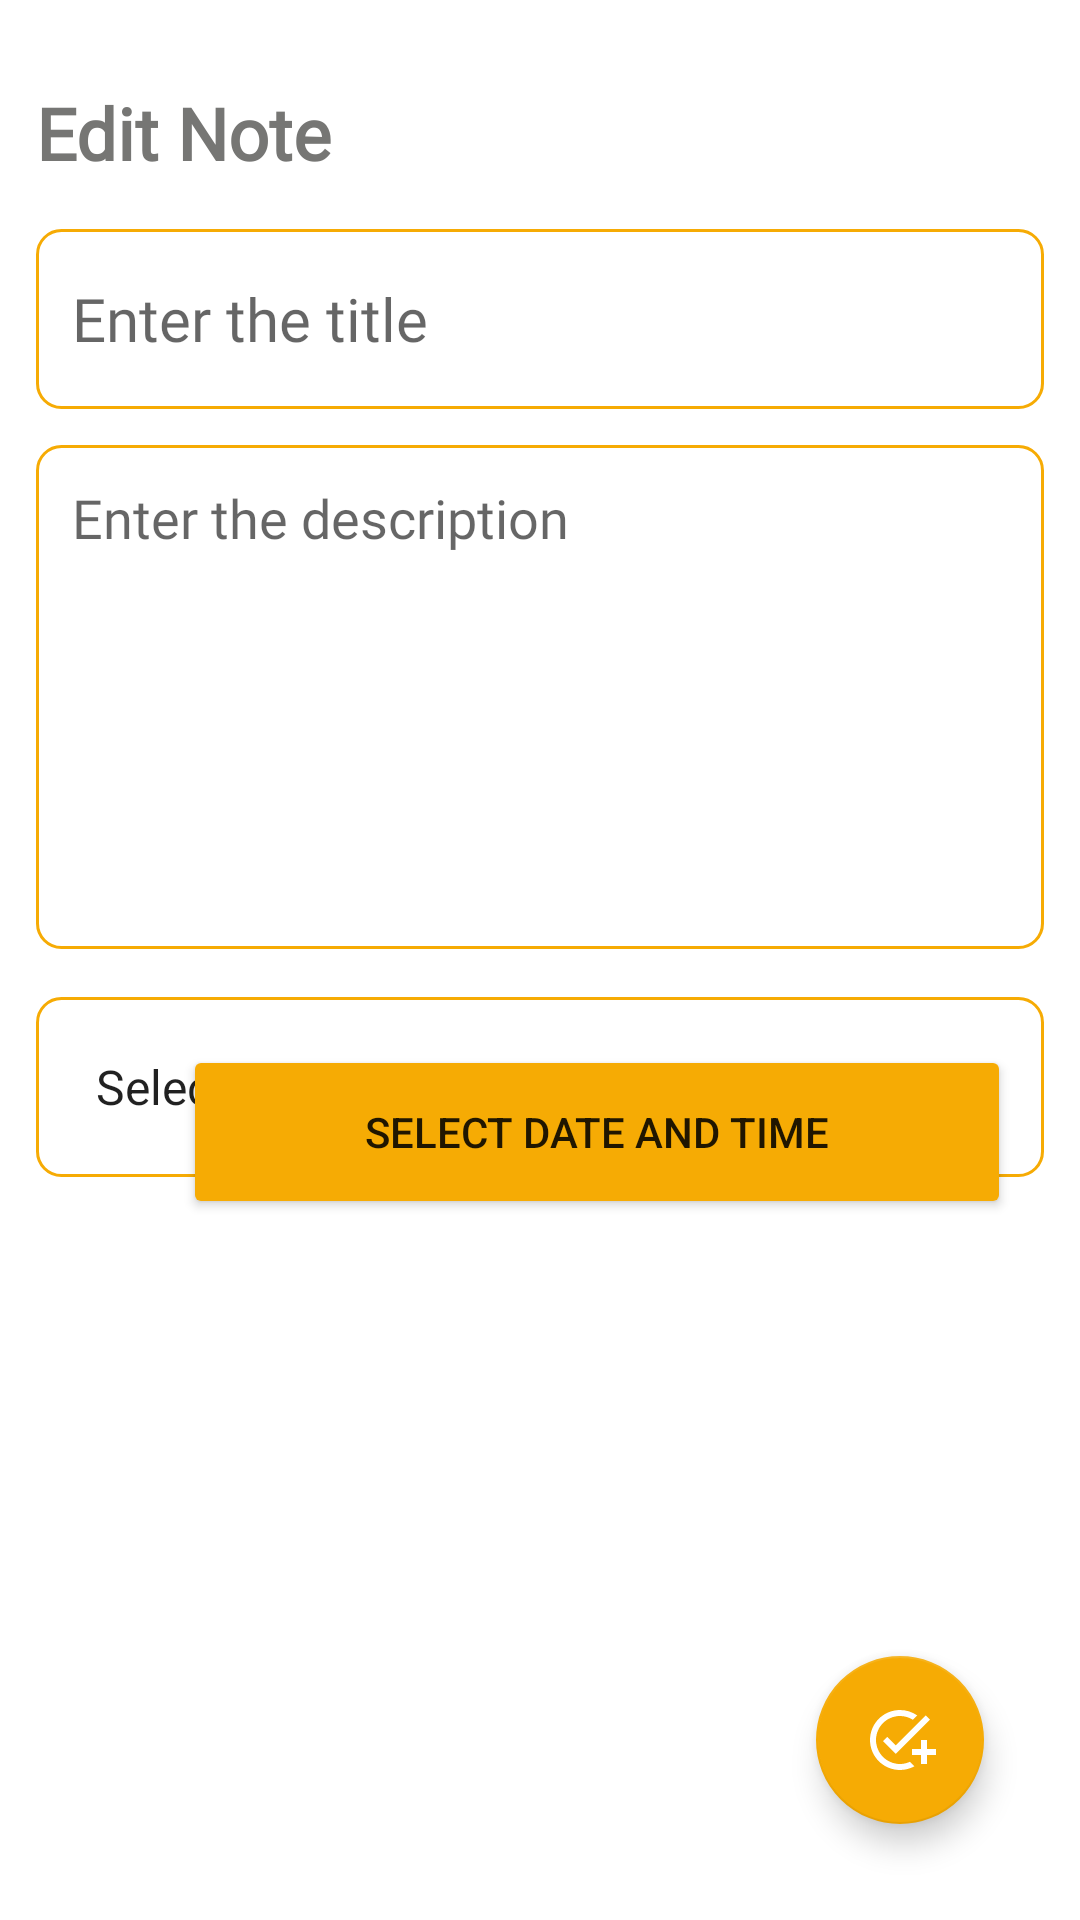

Icons on this 1080w x 1920h Android screen, each with its box as {"x1": x1, "y1": y1, "x2": x2, "y2": y2}:
add task: {"x1": 816, "y1": 1656, "x2": 984, "y2": 1824}
